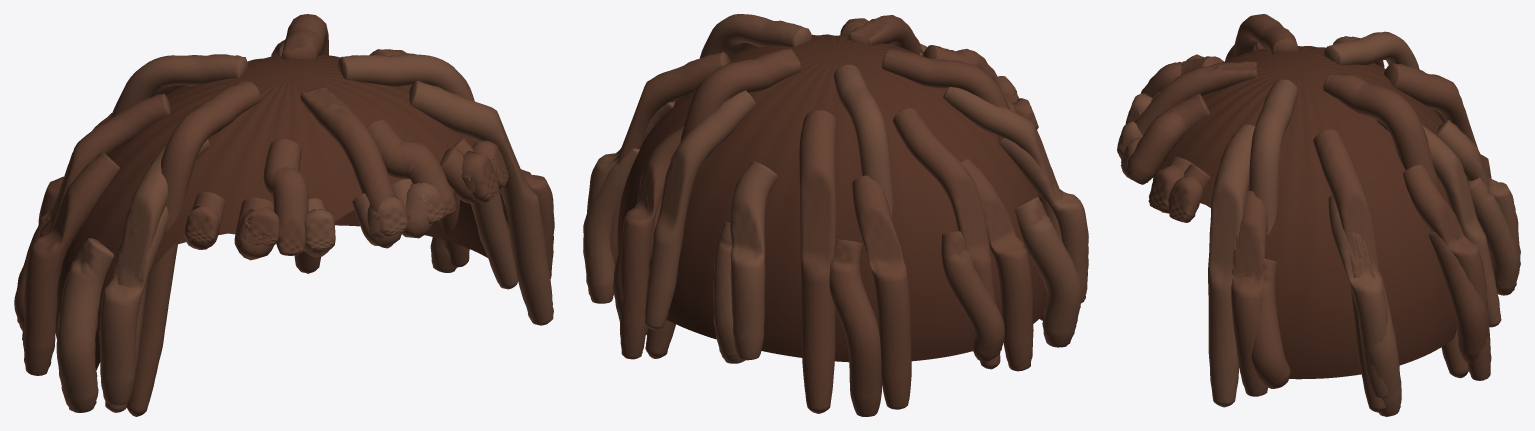
The model's file is Masculine-locs-cowboy251-hair.glb.
The picture shows the model from 3 angles, left to right: view 1: azimuth 30°, elevation 25°; view 2: azimuth 150°, elevation 25°; view 3: azimuth 270°, elevation 25°; orthographic projection. The views are drawn at different scales.
Visible parts, largest first — view 1: 226 hair / Hair / loc main251.001, 226 hair / Hair / loc accent251.001, 226 hair / Hair / recessed roots251.001; view 2: 226 hair / Hair / loc main251.001, 226 hair / Hair / recessed roots251.001, 226 hair / Hair / loc accent251.001; view 3: 226 hair / Hair / loc main251.001, 226 hair / Hair / recessed roots251.001, 226 hair / Hair / loc accent251.001.
Part boxes in pixels (x1,y1,x2,y2): 226 hair / Hair / loc main251.001: (14,14,554,416); 226 hair / Hair / loc accent251.001: (56,40,553,412); 226 hair / Hair / recessed roots251.001: (55,55,508,370); 226 hair / Hair / loc main251.001: (609,15,1045,416); 226 hair / Hair / recessed roots251.001: (617,34,1047,362); 226 hair / Hair / loc accent251.001: (583,14,1088,363); 226 hair / Hair / loc main251.001: (1126,14,1491,412); 226 hair / Hair / recessed roots251.001: (1158,46,1477,379); 226 hair / Hair / loc accent251.001: (1117,31,1520,416).
Size of the model in its own units: 1.13 by 0.663 by 0.8919.
